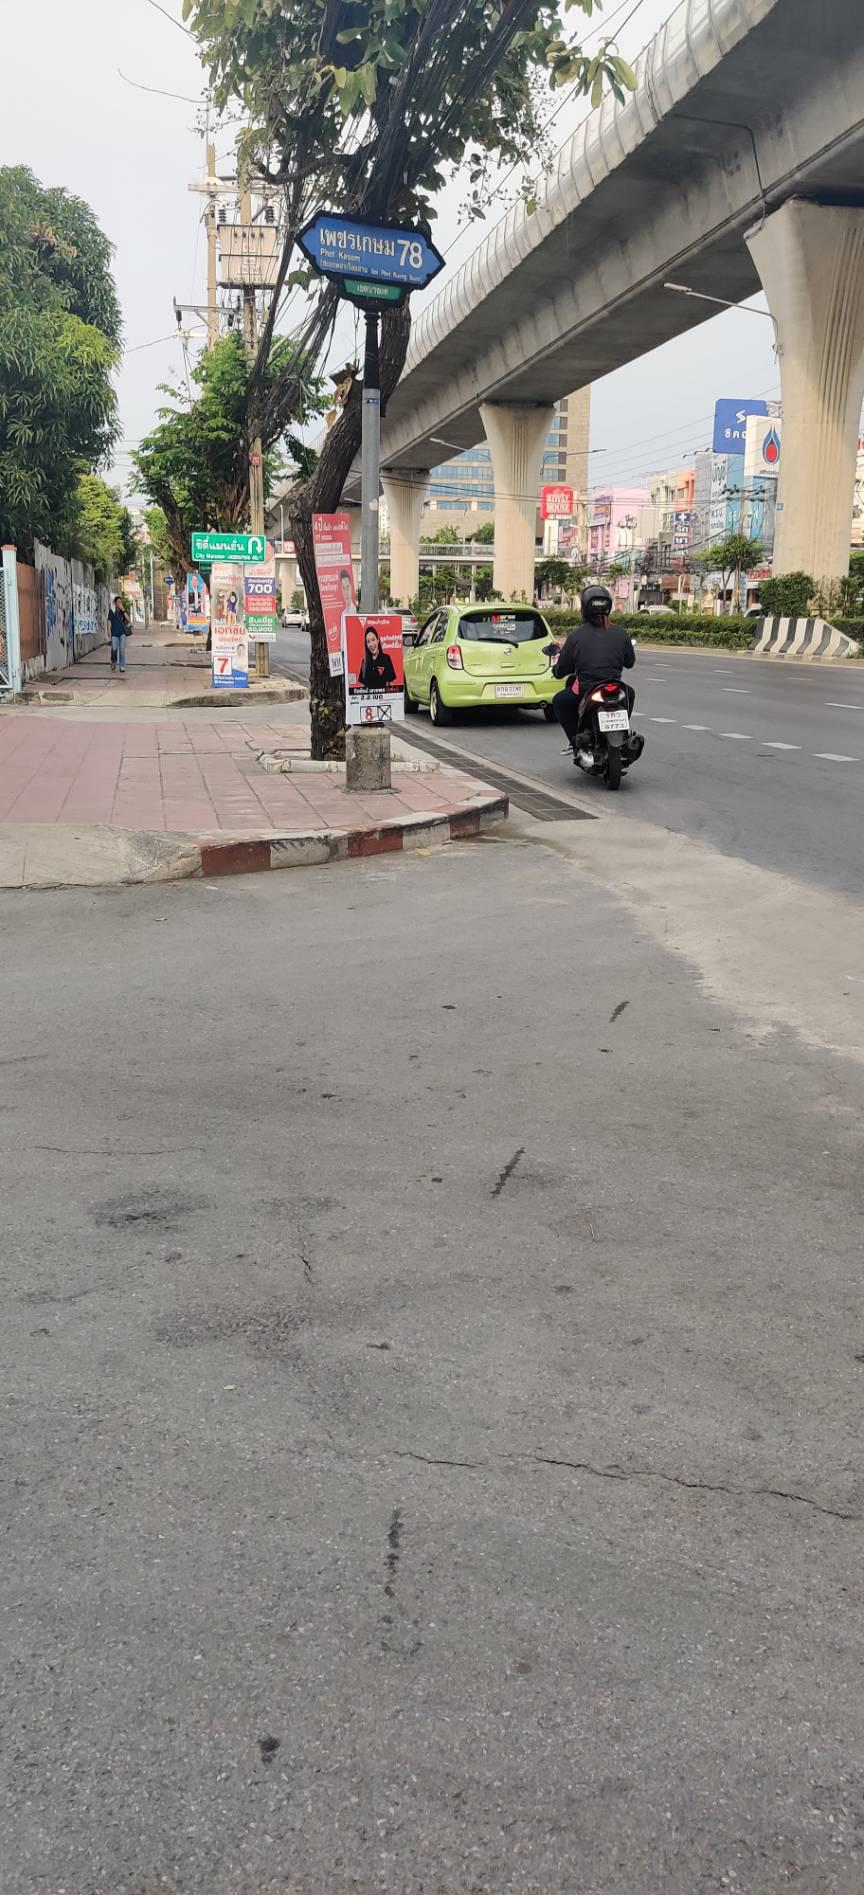Banner: (300, 514, 369, 673), (346, 610, 404, 737), (207, 556, 247, 699)
